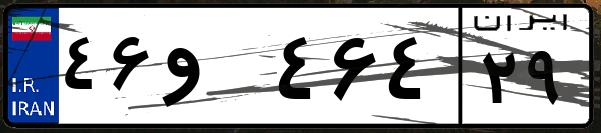2: (475, 38, 525, 113)
4: (270, 28, 330, 110), (385, 28, 445, 110), (57, 26, 110, 100)
6: (330, 28, 385, 110), (110, 28, 158, 98)
9: (525, 38, 570, 115)
و: (158, 20, 270, 120)
